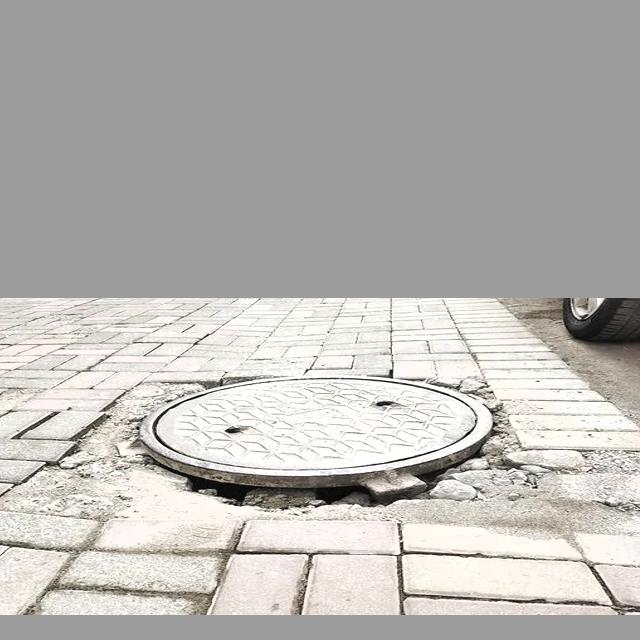circle: (0, 375, 585, 519)
